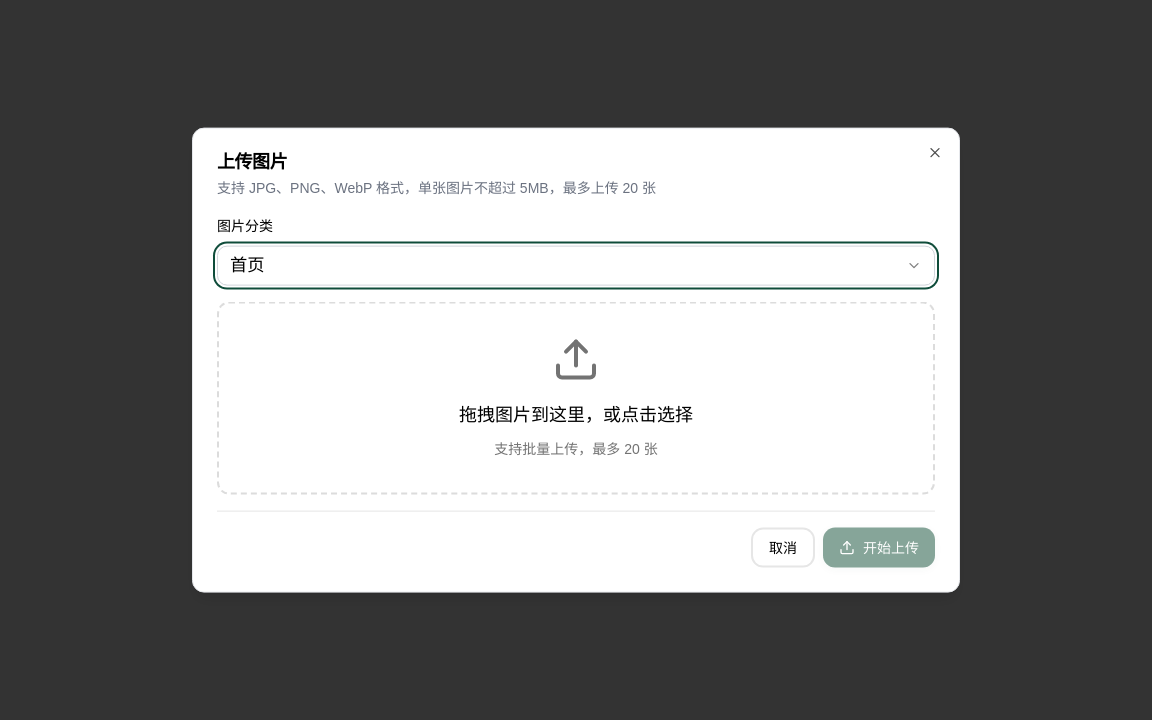
Test case: AssetUploader › Display and Formatting Tests › should show correct category label
Click the dropdown at (247, 265), box [217, 245, 935, 285]
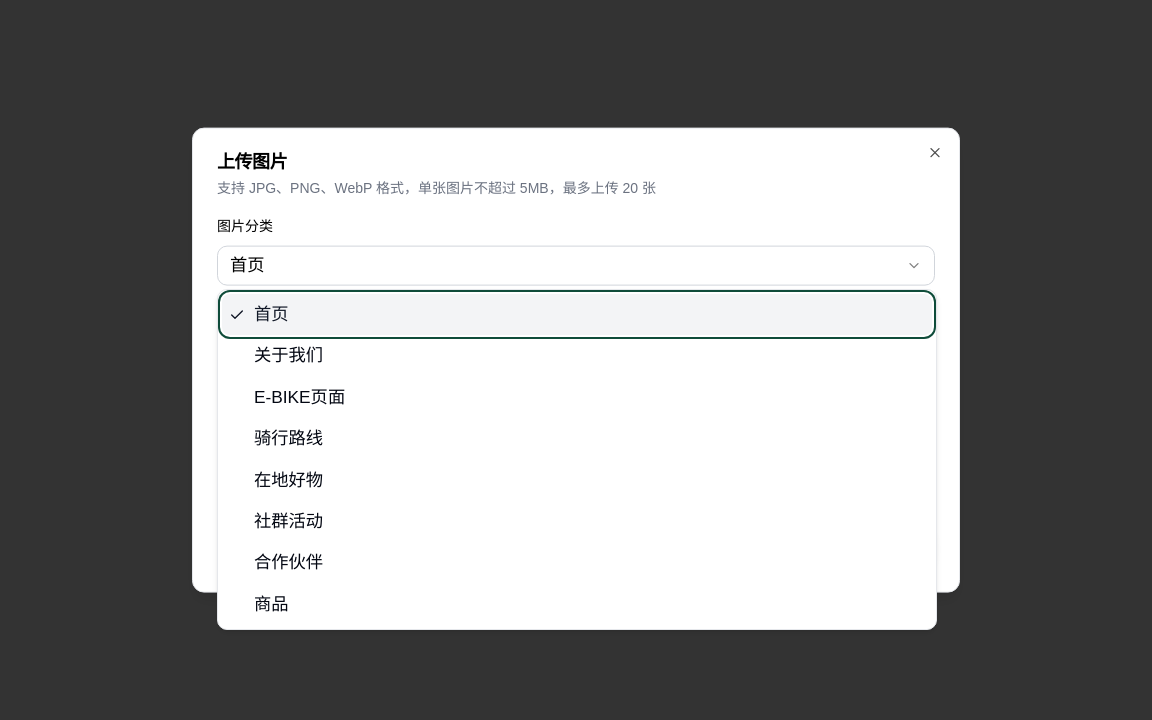
Check: the option "首页" is shown, box [222, 294, 932, 335]
